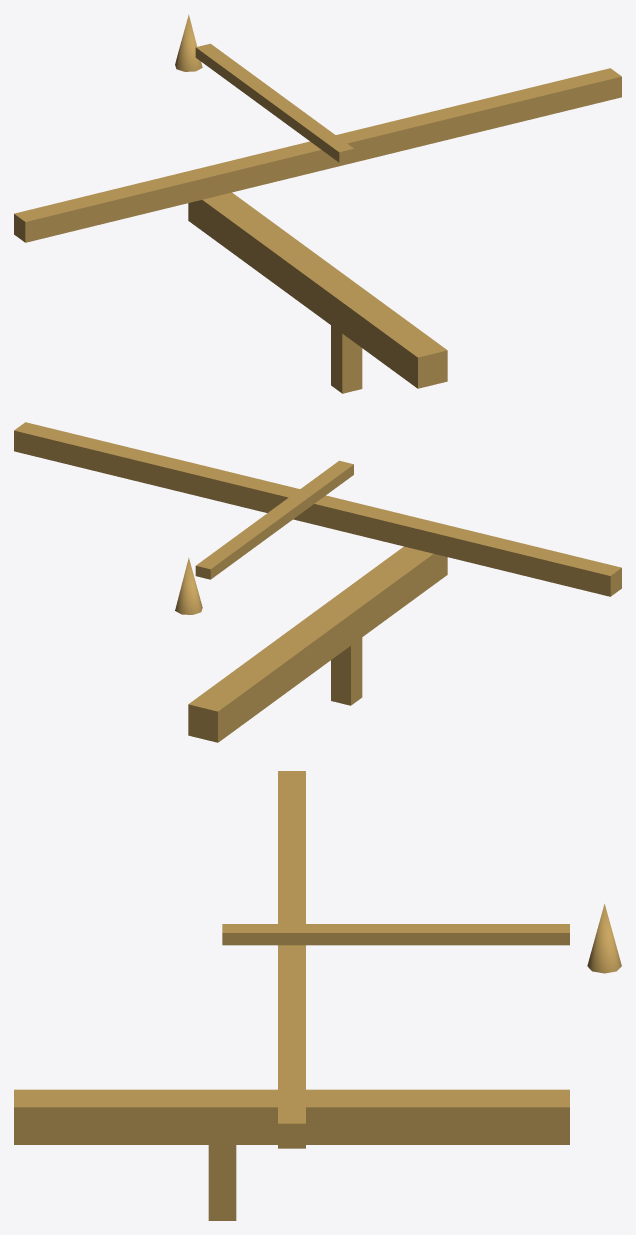
The model's file is 02_no_than.glb.
3 renders of one model, top to bottom at view 1: azimuth 30°, elevation 25°; view 2: azimuth 150°, elevation 25°; view 3: azimuth 270°, elevation 25°, orthographic. The views are drawn at different scales.
Visible parts, largest first — view 1: NoThanLienChau; view 2: NoThanLienChau; view 3: NoThanLienChau.
Part boxes in pixels (left/top/right/bottom): NoThanLienChau: left=14, top=14, right=621, bottom=393; NoThanLienChau: left=14, top=422, right=621, bottom=742; NoThanLienChau: left=14, top=771, right=621, bottom=1220.
Size of the model in its own units: 1.2 by 0.495 by 0.875.
